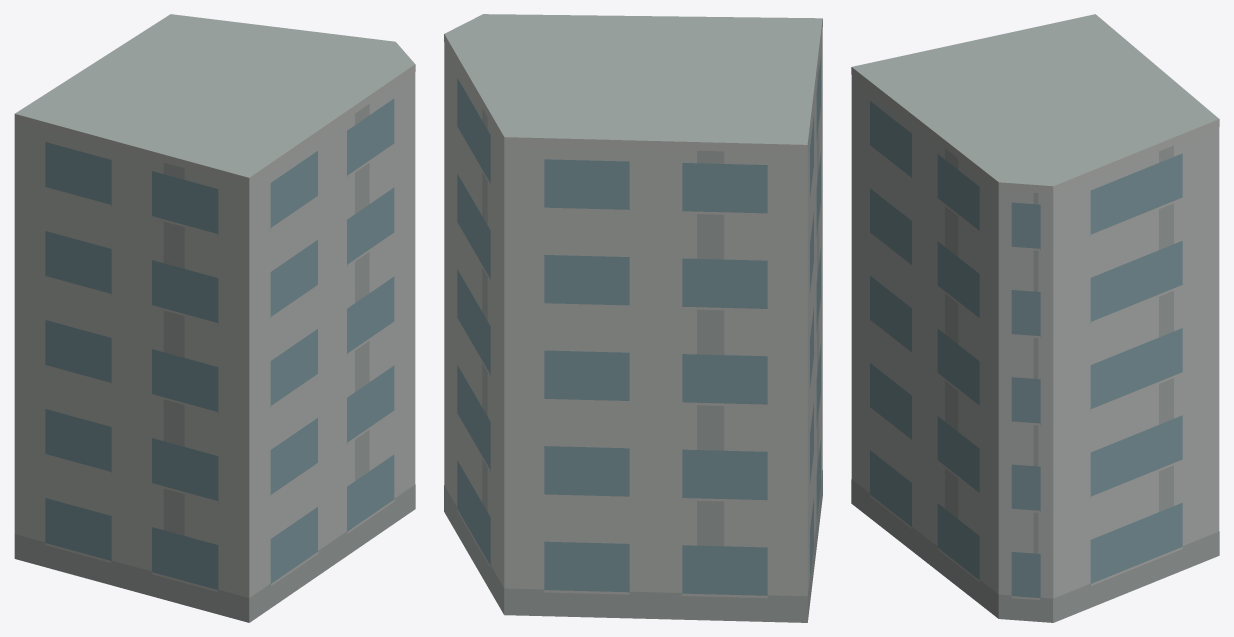
File: survey-upis-33028616.glb
The picture shows the model from 3 angles, left to right: view 1: azimuth 30°, elevation 25°; view 2: azimuth 150°, elevation 25°; view 3: azimuth 270°, elevation 25°; orthographic projection. The views are drawn at different scales.
Parts seen in each view (by area): view 1: survey-upis-33028616.tmp; view 2: survey-upis-33028616.tmp; view 3: survey-upis-33028616.tmp.
Part boxes in pixels (x1=…): survey-upis-33028616.tmp: x1=14, y1=14, x2=415, y2=622; survey-upis-33028616.tmp: x1=444, y1=14, x2=822, y2=622; survey-upis-33028616.tmp: x1=851, y1=14, x2=1219, y2=622.
Size of the model in its own units: 11.43 by 13.5 by 10.32.
